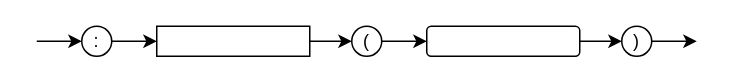
Some shapes in this 735 by 83 pixel diagram are drawn without their labels. The shapes that lost their labels are listed below. From the top down, each one's centre as x and y in pixels, then its label:
the point at 232,40: map
the point at 502,40: expression
